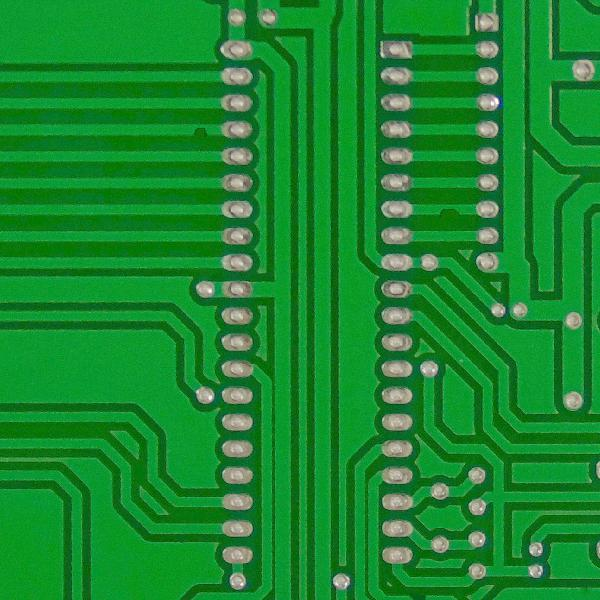mouse_bite: (437, 200, 463, 226), (189, 121, 214, 141)
